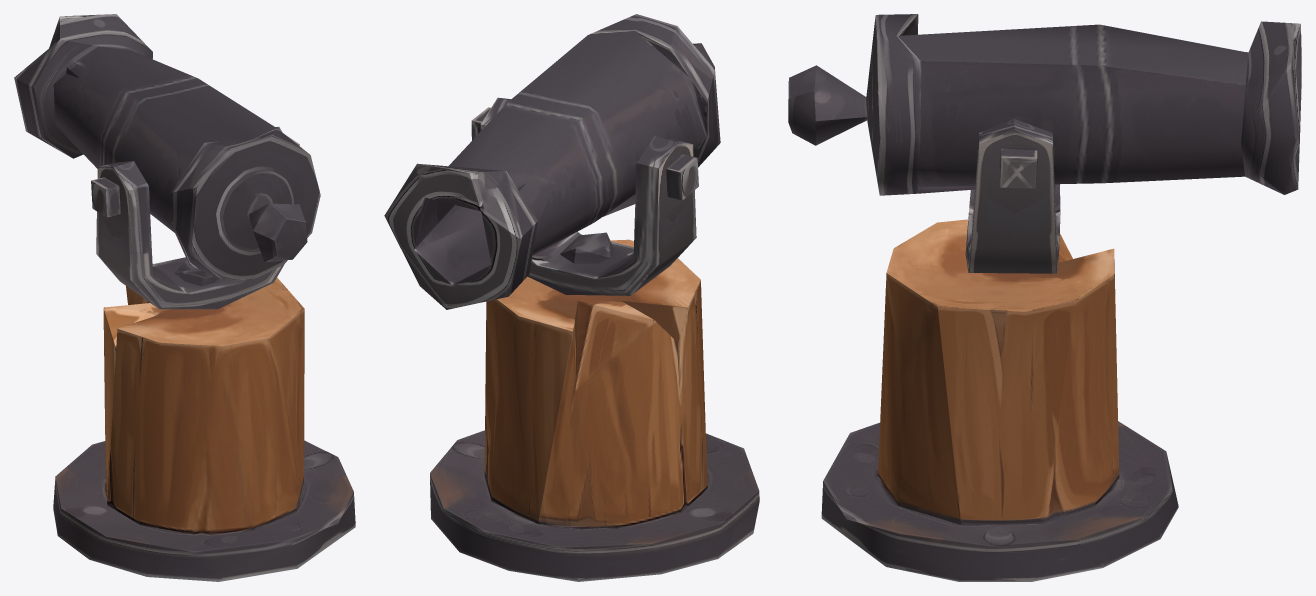
File: cannon-b-300.glb
The picture shows the model from 3 angles, left to right: view 1: azimuth 30°, elevation 25°; view 2: azimuth 150°, elevation 25°; view 3: azimuth 270°, elevation 25°; orthographic projection. The views are drawn at different scales.
Parts seen in each view (by area): view 1: mount, barrel; view 2: mount, barrel; view 3: mount, barrel.
Part boxes in pixels (<box>): mount: <box>53,126,355,581</box>; barrel: <box>14,14,320,285</box>; mount: <box>430,97,759,581</box>; barrel: <box>384,14,720,309</box>; mount: <box>821,118,1178,581</box>; barrel: <box>788,14,1301,195</box>.
Size of the model in its own units: 0.6818 by 1.04 by 1.
1 material, 1 textured.
